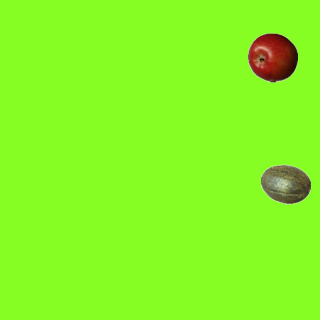Apple Braeburn: (247, 32, 297, 82)
Melon Piel de Sapo: (260, 159, 310, 209)
